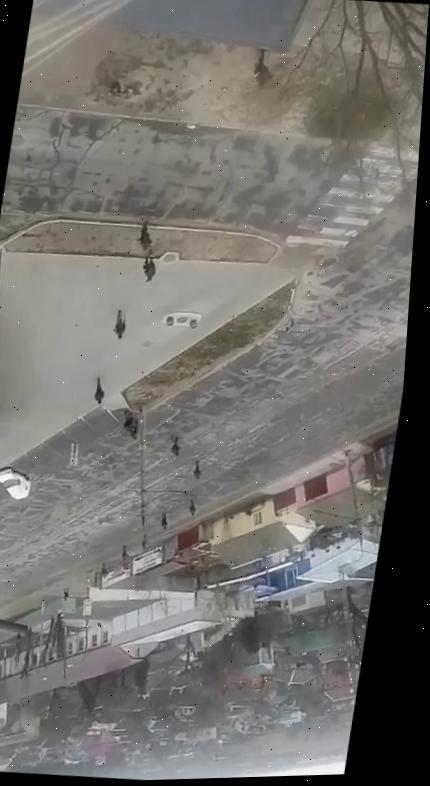car: (0, 465, 35, 502)
person: (140, 249, 159, 283), (111, 309, 129, 341), (136, 222, 155, 252), (120, 409, 140, 436), (91, 377, 107, 405), (168, 434, 183, 458), (192, 460, 204, 481), (188, 498, 199, 517), (119, 545, 130, 564), (100, 562, 110, 579), (160, 513, 169, 530), (61, 588, 70, 603)
